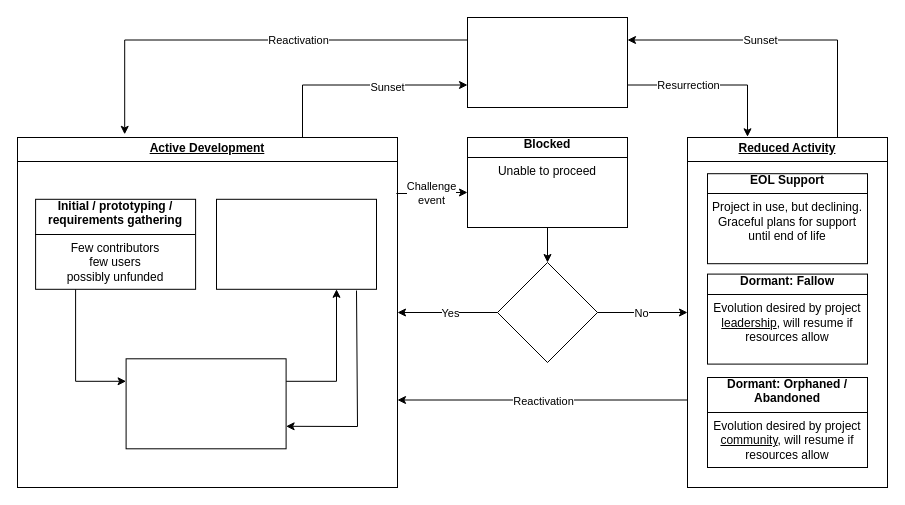
Some shapes in this 905 by 505 pixel diagram are drawn without their labels. The shapes that lost their labels are listed below. From the top down, each one's centre as x and y in pixels, then its label:
the point at 547,62: Finished No development or maintenance planned
the point at 296,243: Evolution Sufficient resources New Features Maintenance
the point at 547,312: Handled Successfully?
the point at 205,403: Growth More contributors, increased funding, paid staff, leadership > 1
